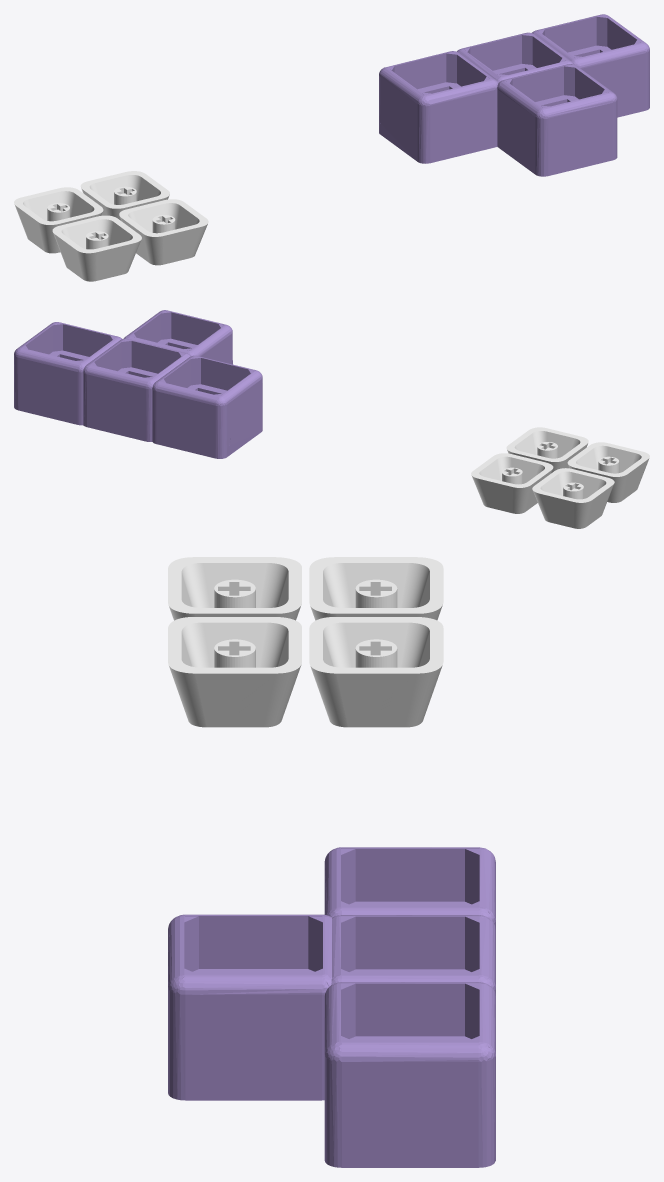
Rendered from key-clicker.glb.
3 views of the same model, one above another, from view 1: azimuth 30°, elevation 25°; view 2: azimuth 150°, elevation 25°; view 3: azimuth 270°, elevation 25° (orthographic). The views are drawn at different scales.
Parts seen in each view (by area): view 1: TETRIS SHAPE 2 CLICKER + KEYRINGHOLE.stl_fil2, Assembly_fil1 (×4); view 2: TETRIS SHAPE 2 CLICKER + KEYRINGHOLE.stl_fil2, Assembly_fil1 (×4); view 3: TETRIS SHAPE 2 CLICKER + KEYRINGHOLE.stl_fil2, Assembly_fil1 (×4).
Part boxes in pixels (left/top/right/bottom): TETRIS SHAPE 2 CLICKER + KEYRINGHOLE.stl_fil2: left=379, top=14, right=649, bottom=176; Assembly_fil1 (×4): left=14, top=171, right=208, bottom=281; TETRIS SHAPE 2 CLICKER + KEYRINGHOLE.stl_fil2: left=14, top=310, right=262, bottom=458; Assembly_fil1 (×4): left=471, top=427, right=649, bottom=528; TETRIS SHAPE 2 CLICKER + KEYRINGHOLE.stl_fil2: left=168, top=847, right=495, bottom=1167; Assembly_fil1 (×4): left=168, top=557, right=443, bottom=727.
Bounding box in the file's own units: 0.178 × 0.018 × 0.045.
